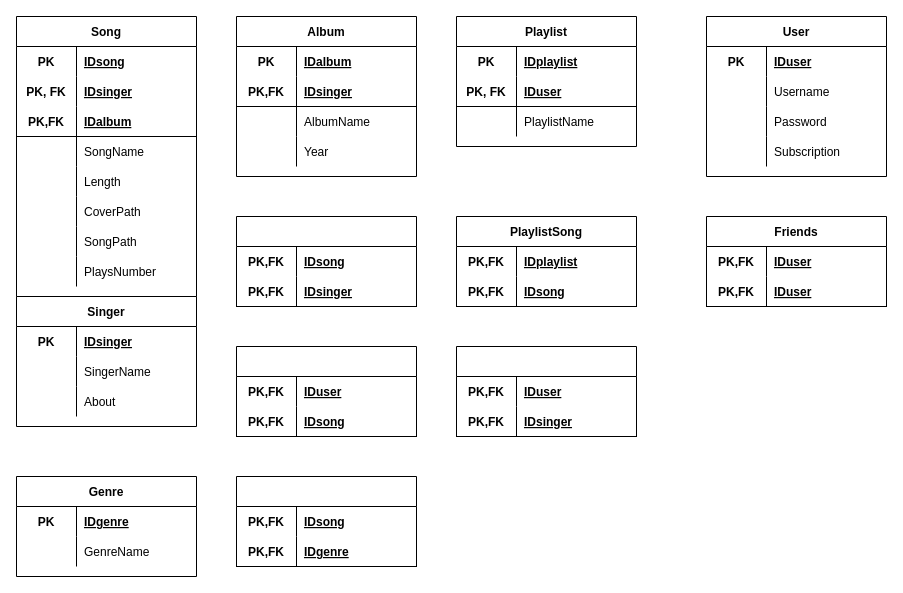
Some shapes in this 903 by 593 pixel diagram are drawn without their labels. The shapes that lost their labels are listed below. From the top down, each one's box as (x1, y1, x2, y2) in pixels, then its label:
(236, 216, 416, 306): SongSinger
(236, 346, 416, 436): UserLikedSong
(456, 346, 636, 436): UserSingerSubscription
(236, 476, 416, 566): SongGenre
